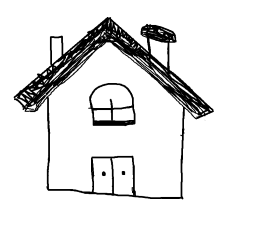chimney: (140, 18, 179, 75), (42, 27, 69, 69)
closed_window: (79, 83, 141, 131)
door: (87, 152, 143, 202)
shaded_roof: (6, 13, 216, 115)
wall: (33, 102, 201, 206)
